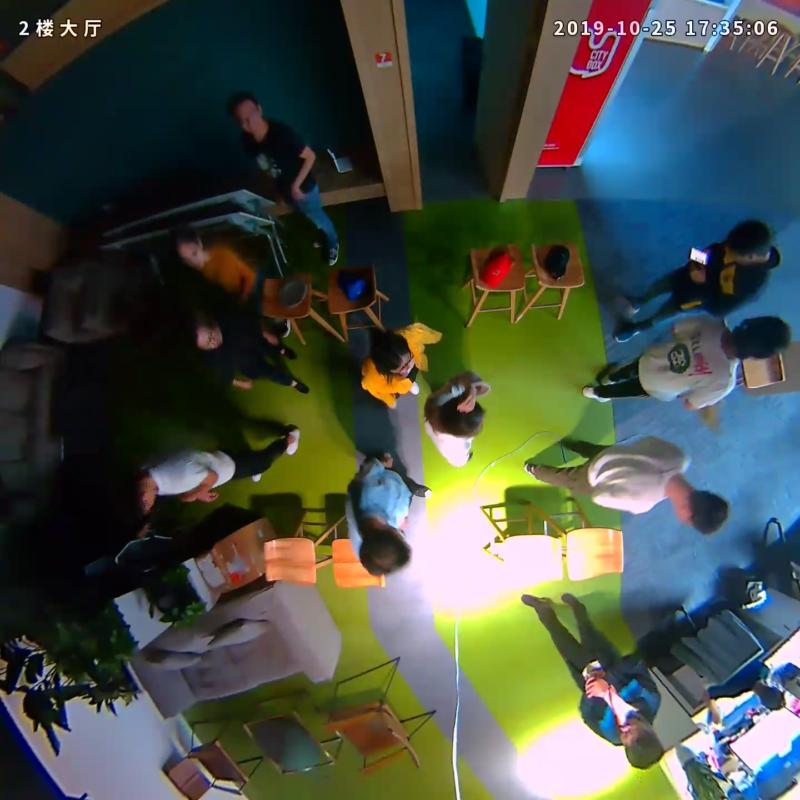head: (357, 522, 413, 577), (734, 315, 792, 360), (619, 713, 664, 771), (674, 488, 729, 534), (112, 474, 157, 527), (723, 219, 774, 265), (370, 332, 416, 376), (167, 225, 205, 273), (443, 396, 486, 438), (227, 90, 264, 135), (189, 314, 224, 353)
